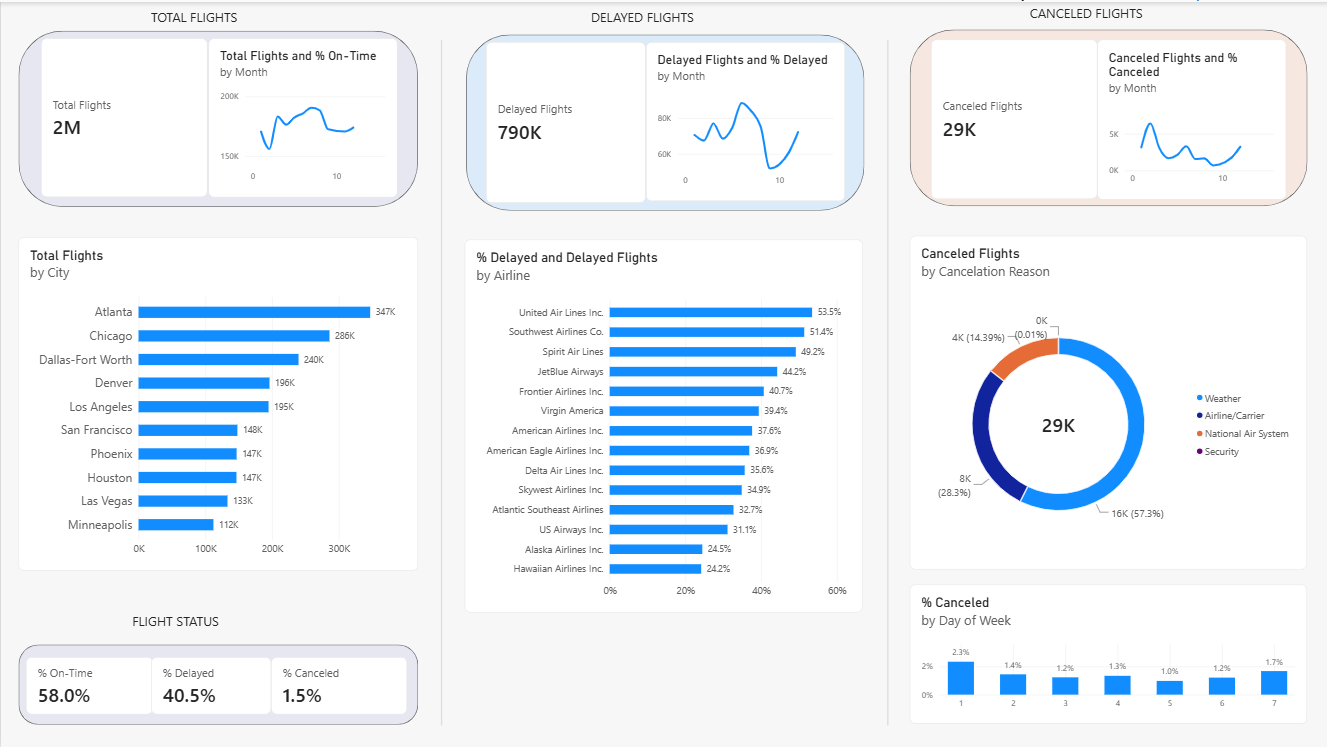

This screenshot's page, from the dashboard's own definition file:
{"tool":"powerbi","page":{"name":"Page 1","canvas":[1920,1080],"ordinal":0},"visuals":[{"type":"shape","box":[25.7,848.6,577.1,197.1],"z":0},{"type":"shape","box":[1287.1,310,575.7,515.7],"z":1000},{"type":"shape","box":[648.6,318.6,575.7,515.7],"z":2000},{"type":"shape","box":[25.7,310,577.1,515.7],"z":3000},{"type":"shape","box":[1287.1,37.1,575.7,255.7],"z":4000},{"type":"shape","box":[25.7,41.4,577.1,251.4],"z":5000},{"type":"shape","box":[648.6,35.7,575.7,257.1],"z":6000},{"type":"cardVisual","fields":{"Data":["flights.Total Flights"]},"box":[60,54.3,234.3,228.6],"z":7000},{"type":"lineChart","fields":{"Category":["flights.MONTH"],"Y":["flights.Total Flights"]},"box":[294.3,52.9,280,230],"z":8000},{"type":"cardVisual","fields":{"Data":["flights.Delayed Flights"]},"box":[678.6,41.4,231.4,241.4],"z":9000},{"type":"lineChart","fields":{"Category":["flights.MONTH"],"Y":["flights.Delayed Flights"]},"box":[910,41.4,281.4,241.4],"z":10000},{"type":"cardVisual","fields":{"Data":["flights.Canceled Flights"]},"box":[1318.6,51.4,228.6,231.4],"z":11000},{"type":"lineChart","fields":{"Category":["flights.MONTH"],"Y":["flights.Canceled Flights"]},"box":[1547.1,51.4,285.7,231.4],"z":12000},{"type":"cardVisual","fields":{"Data":["flights.% On-Time"]},"box":[35.7,870,182.9,160],"z":13000},{"type":"cardVisual","fields":{"Data":["flights.% Delayed"]},"box":[218,869.6,174,160],"z":14000},{"type":"cardVisual","fields":{"Data":["flights.% Canceled"]},"box":[391.4,870,197.1,160],"z":15000},{"type":"clusteredBarChart","fields":{"Category":["airports.CITY"],"Y":["flights.Total Flights"]},"box":[60,354.3,514.3,425.7],"z":16000},{"type":"clusteredBarChart","fields":{"Category":["airlines.AIRLINE"],"Y":["flights.% Delayed"]},"box":[678.6,361.4,512.9,427.1],"z":17000},{"type":"donutChart","fields":{"Category":["cancellation_codes.CANCELLATION_DESCRIPTION"],"Y":["flights.Canceled Flights"]},"box":[1318.6,354.3,514.3,425.7],"z":18000},{"type":"clusteredColumnChart","fields":{"Category":["flights.DAY_OF_WEEK"],"Y":["flights.% Canceled"]},"box":[1265.7,848.6,618.6,215.7],"z":19000},{"type":"hundredPercentStackedBarChart","fields":{"Series":["flights.Status"],"Y":["flights.Total Flights"]},"box":[631.4,848.6,612.9,215.7],"z":20000},{"type":"textbox","box":[218,8,286,30],"z":21000},{"type":"textbox","box":[830,6,160,36],"z":22000},{"type":"textbox","box":[1448,4,196,40],"z":23000}]}

Visuals, with their boxes in screenshot pixels (x1, y1, x2, y2), scaled from the page's 1920x1080 canvas onto the 1327x747 screenshot:
shape: bbox=[18, 587, 417, 723]
shape: bbox=[890, 214, 1287, 571]
shape: bbox=[448, 220, 846, 577]
shape: bbox=[18, 214, 417, 571]
shape: bbox=[890, 26, 1287, 203]
shape: bbox=[18, 29, 417, 203]
shape: bbox=[448, 25, 846, 203]
cardVisual - flights.Total Flights: bbox=[41, 38, 203, 196]
lineChart - flights.MONTH x flights.Total Flights: bbox=[203, 37, 397, 196]
cardVisual - flights.Delayed Flights: bbox=[469, 29, 629, 196]
lineChart - flights.MONTH x flights.Delayed Flights: bbox=[629, 29, 823, 196]
cardVisual - flights.Canceled Flights: bbox=[911, 36, 1069, 196]
lineChart - flights.MONTH x flights.Canceled Flights: bbox=[1069, 36, 1267, 196]
cardVisual - flights.% On-Time: bbox=[25, 602, 151, 712]
cardVisual - flights.% Delayed: bbox=[151, 601, 271, 712]
cardVisual - flights.% Canceled: bbox=[271, 602, 407, 712]
clusteredBarChart - airports.CITY x flights.Total Flights: bbox=[41, 245, 397, 540]
clusteredBarChart - airlines.AIRLINE x flights.% Delayed: bbox=[469, 250, 824, 545]
donutChart - cancellation_codes.CANCELLATION_DESCRIPTION x flights.Canceled Flights: bbox=[911, 245, 1267, 540]
clusteredColumnChart - flights.DAY_OF_WEEK x flights.% Canceled: bbox=[875, 587, 1302, 736]
hundredPercentStackedBarChart - flights.Status x flights.Total Flights: bbox=[436, 587, 860, 736]
textbox: bbox=[151, 6, 348, 26]
textbox: bbox=[574, 4, 684, 29]
textbox: bbox=[1001, 3, 1136, 30]
